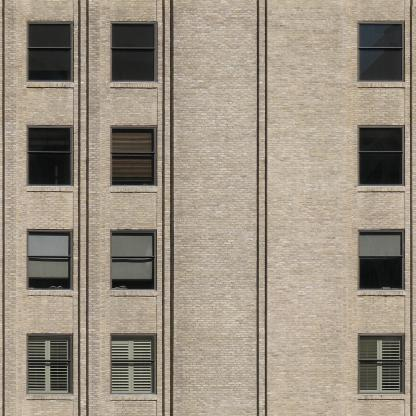Blind: (359, 336, 402, 393), (28, 336, 71, 393), (111, 336, 154, 393), (112, 127, 156, 182), (111, 231, 155, 279), (28, 232, 71, 278), (28, 24, 71, 70), (359, 127, 403, 155), (359, 231, 403, 256), (28, 128, 71, 145)
Building Outline: (1, 1, 415, 416)
Facade: (1, 1, 415, 416)
Floor: (1, 0, 416, 102), (1, 111, 416, 210), (1, 218, 416, 312), (1, 320, 416, 408)
Floor Slab: (1, 408, 416, 416), (1, 210, 416, 218), (1, 313, 416, 321), (1, 102, 416, 110)
Pillar: (163, 1, 174, 416), (257, 1, 268, 416), (79, 1, 89, 416), (0, 1, 5, 416), (410, 1, 415, 416)
Sill: (26, 394, 73, 400), (358, 82, 405, 88), (111, 82, 158, 88), (358, 186, 405, 192), (111, 186, 158, 192), (358, 290, 405, 296), (111, 290, 158, 296), (358, 395, 405, 400), (111, 395, 158, 400), (26, 82, 73, 87), (26, 186, 73, 191), (26, 290, 73, 295)
Window: (358, 334, 405, 395), (110, 334, 157, 395), (358, 21, 405, 82), (26, 21, 73, 82), (110, 22, 157, 83), (358, 125, 405, 186), (26, 125, 73, 186), (110, 125, 157, 186), (358, 229, 405, 290), (26, 229, 73, 290), (110, 230, 157, 291), (26, 334, 73, 394)
